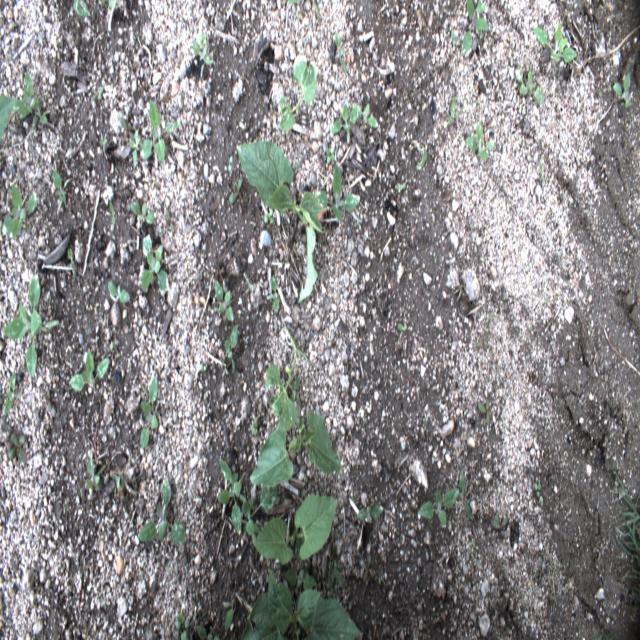crop: (245, 310, 343, 486), (234, 138, 330, 308), (242, 554, 362, 637), (255, 489, 339, 572), (610, 468, 638, 594)
weed: (2, 267, 58, 383), (213, 460, 278, 547), (414, 456, 472, 532), (136, 475, 190, 550), (279, 44, 316, 131), (142, 100, 182, 166), (1, 184, 46, 242), (138, 361, 161, 455), (68, 346, 112, 394), (139, 233, 171, 297), (15, 70, 48, 131), (331, 157, 361, 224), (460, 1, 492, 62), (511, 64, 552, 110), (196, 591, 237, 636), (536, 23, 578, 66), (463, 122, 494, 170), (350, 96, 387, 134), (6, 419, 32, 473), (212, 278, 241, 326), (3, 360, 26, 420), (78, 446, 102, 494), (129, 195, 160, 231), (0, 91, 20, 145), (609, 72, 635, 113), (327, 100, 357, 135), (125, 121, 142, 179), (224, 326, 242, 380), (107, 274, 134, 309), (49, 172, 70, 217), (113, 461, 134, 505), (359, 549, 381, 591), (352, 502, 386, 528), (410, 137, 430, 178), (489, 504, 513, 538), (325, 559, 347, 595), (332, 26, 348, 74), (267, 272, 283, 318), (471, 396, 494, 428), (191, 37, 213, 70), (104, 189, 119, 230), (444, 97, 463, 129), (392, 314, 410, 341), (66, 3, 91, 21), (174, 609, 190, 637), (97, 127, 114, 153), (66, 247, 78, 273), (227, 184, 243, 203), (534, 482, 545, 506), (165, 209, 176, 233), (92, 86, 105, 101), (395, 182, 406, 194)
